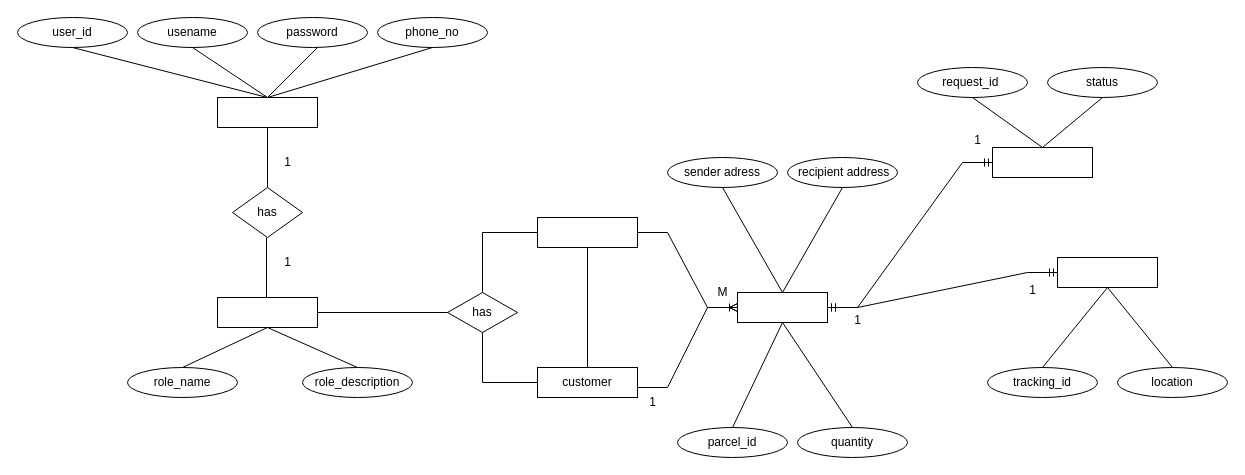
The diagram is 1245 pixels wide and 475 high, and some of its shapes have lost their labels. Each missing label, with the centre of its shape:
admin: [587,232]
callback: [1042,162]
parcel: [782,307]
role: [267,312]
tracking: [1107,272]
user: [267,112]
